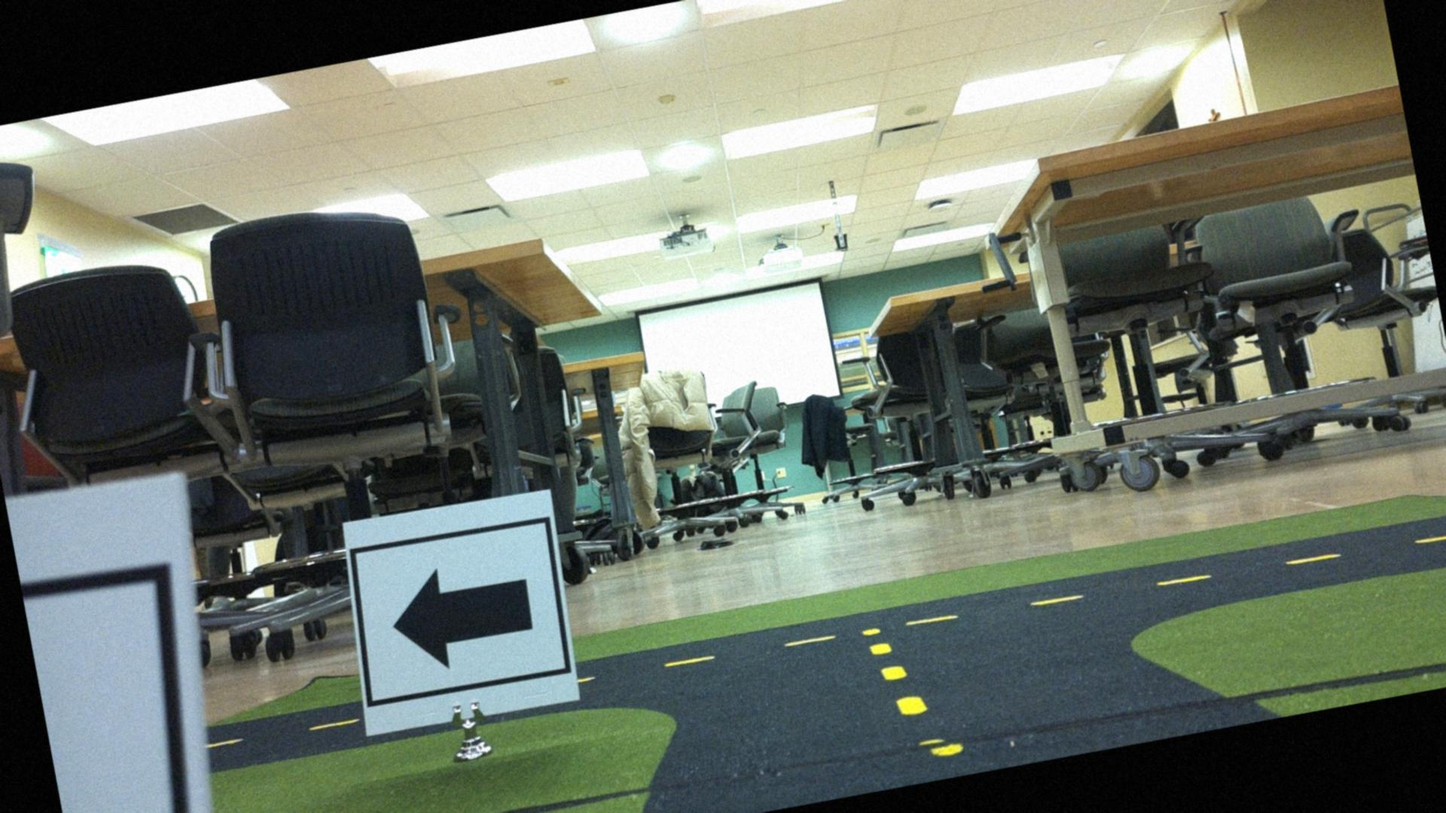turnleft: (342, 491, 575, 737)
yellowline: (666, 513, 1445, 681), (871, 639, 926, 722)
